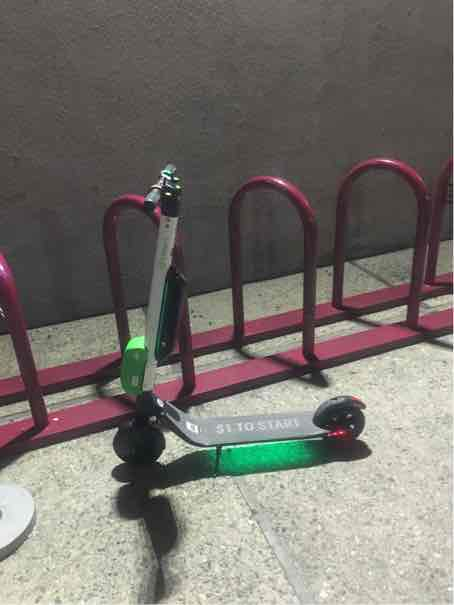scooter: (100, 150, 382, 490)
